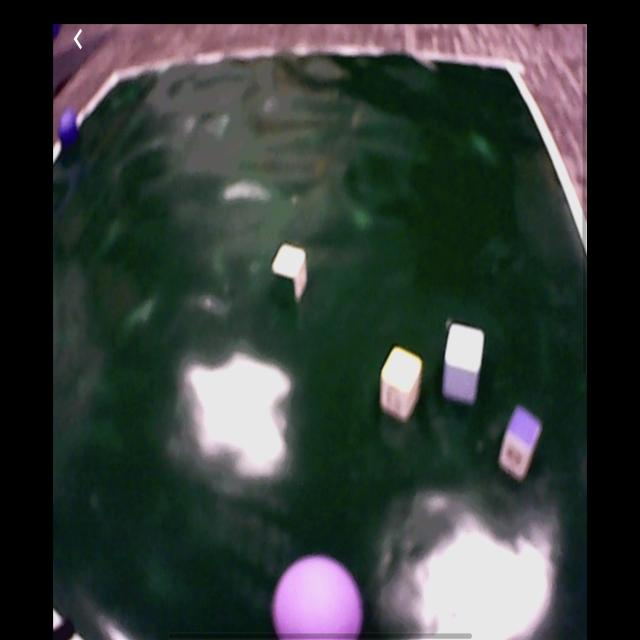ball: (274, 556, 363, 638), (58, 111, 78, 145)
